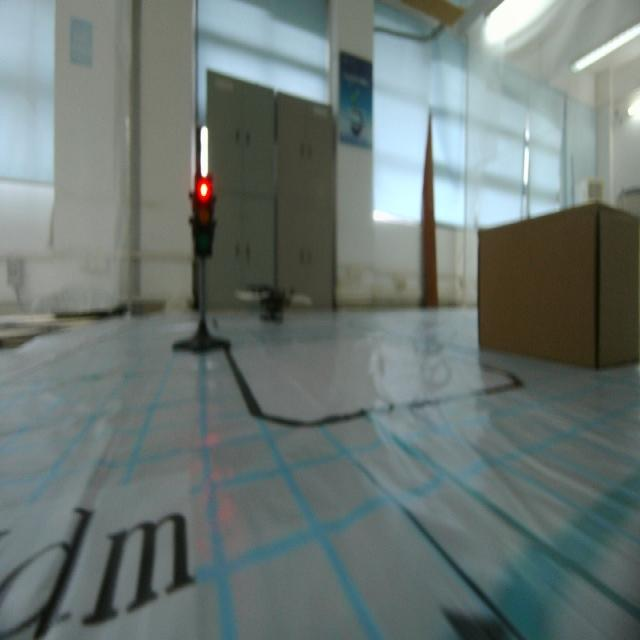red: (190, 175, 218, 262)
